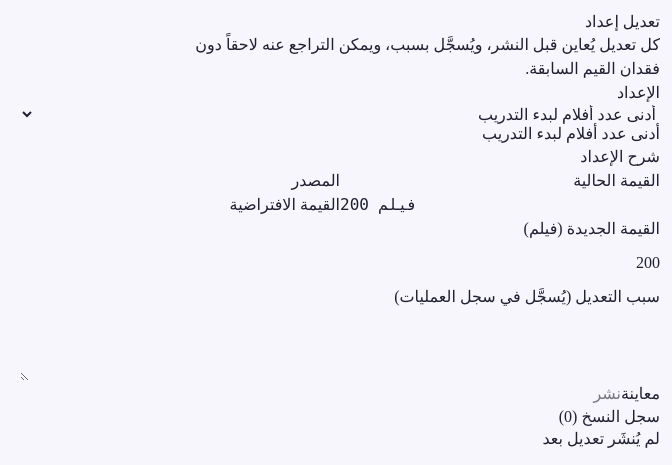
Test case: SettingsAdmin › keeps publish disabled until a reason is entered
The image size is (672, 465).
Expected: the button "نشر" is disabled, x1=593 y1=381 x2=621 y2=407
Step 1. Type "موسم جديد" into the text box labelled "سبب التعديل (يُسجَّل في سجل العمليات)" → (340, 345), box x1=20 y1=309 x2=660 y2=381
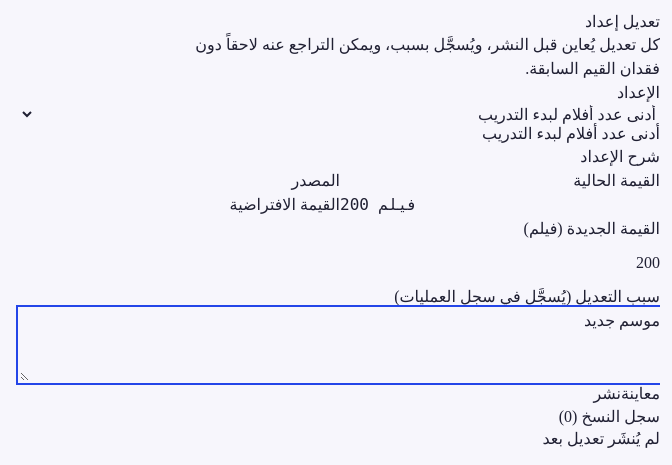
Result: the button "نشر" is enabled at x1=593 y1=381 x2=621 y2=407
